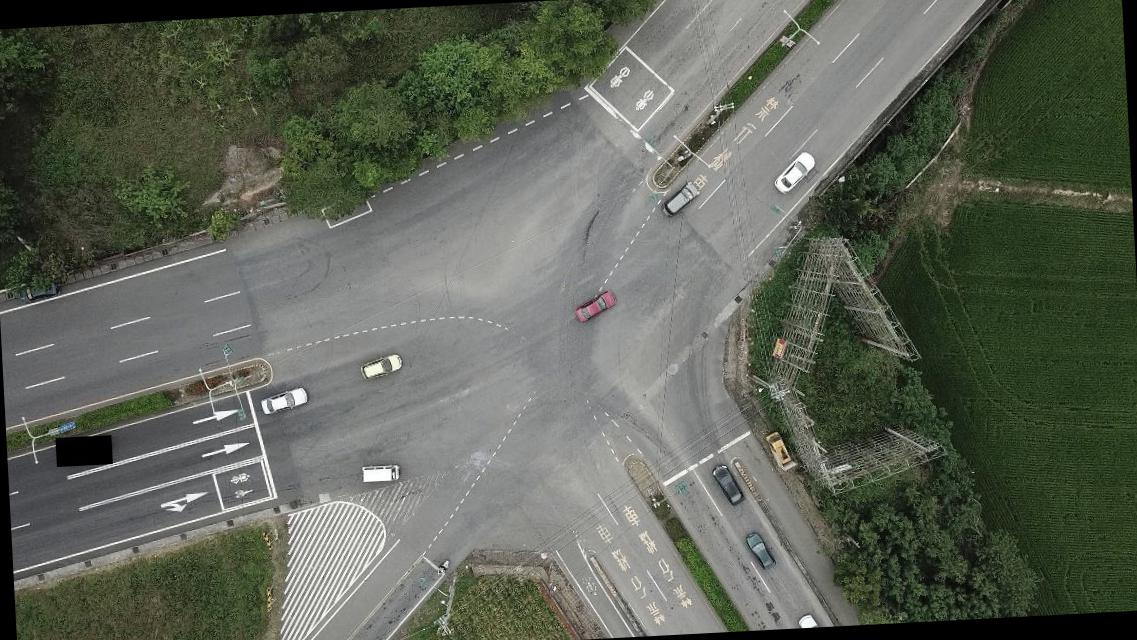vehicle: (772, 148, 818, 194), (572, 288, 620, 322), (714, 460, 748, 508), (659, 180, 703, 216), (258, 386, 310, 416), (743, 530, 776, 572), (12, 277, 61, 305), (358, 353, 404, 379), (765, 429, 790, 468), (359, 461, 398, 484), (792, 614, 820, 628)
